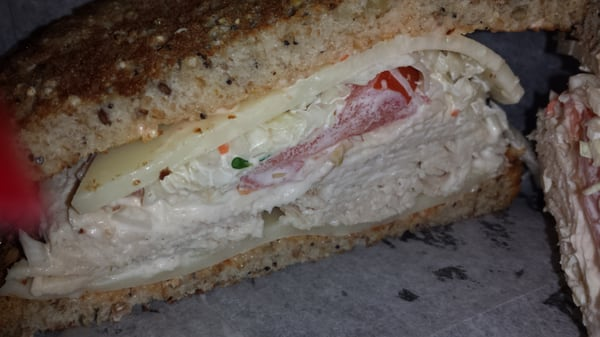soup: (1, 2, 573, 316)
